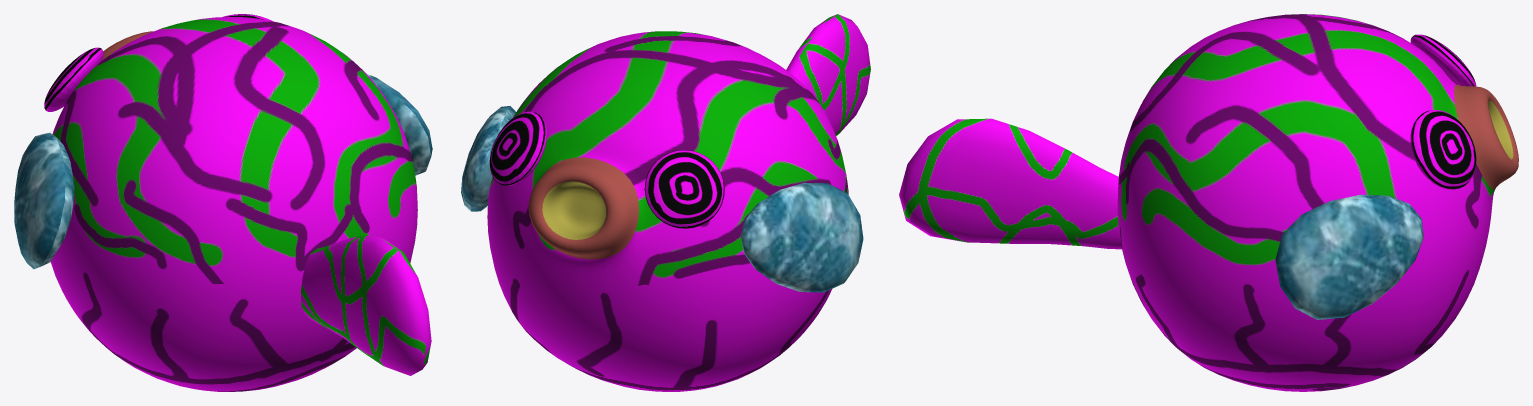
File: hugu.glb
3 views of the same model, side by side, from view 1: azimuth 30°, elevation 25°; view 2: azimuth 150°, elevation 25°; view 3: azimuth 270°, elevation 25° (orthographic). The views are drawn at different scales.
Visible parts, largest first — view 1: 立方体.002, 立方体.001, 立方体, 球; view 2: 立方体.002, 立方体, 球, 立方体.001; view 3: 立方体.002, 立方体.001, 立方体, 球.
Part boxes in pixels (box(x1,y1,x2,y2)): 立方体.002: box(50, 17, 417, 391); 立方体.001: box(301, 235, 431, 375); 立方体: box(14, 73, 432, 269); 球: box(44, 14, 272, 111); 立方体.002: box(487, 31, 848, 391); 立方体: box(461, 106, 863, 292); 球: box(489, 111, 724, 228); 立方体.001: box(786, 14, 870, 135); 立方体.002: box(1117, 14, 1518, 391); 立方体.001: box(899, 118, 1121, 249); 立方体: box(1275, 194, 1423, 319); 球: box(1410, 34, 1476, 189).
Size of the model in its own units: 1.97 by 1.6 by 2.67.
Materials: 2 (2 with a texture image).
